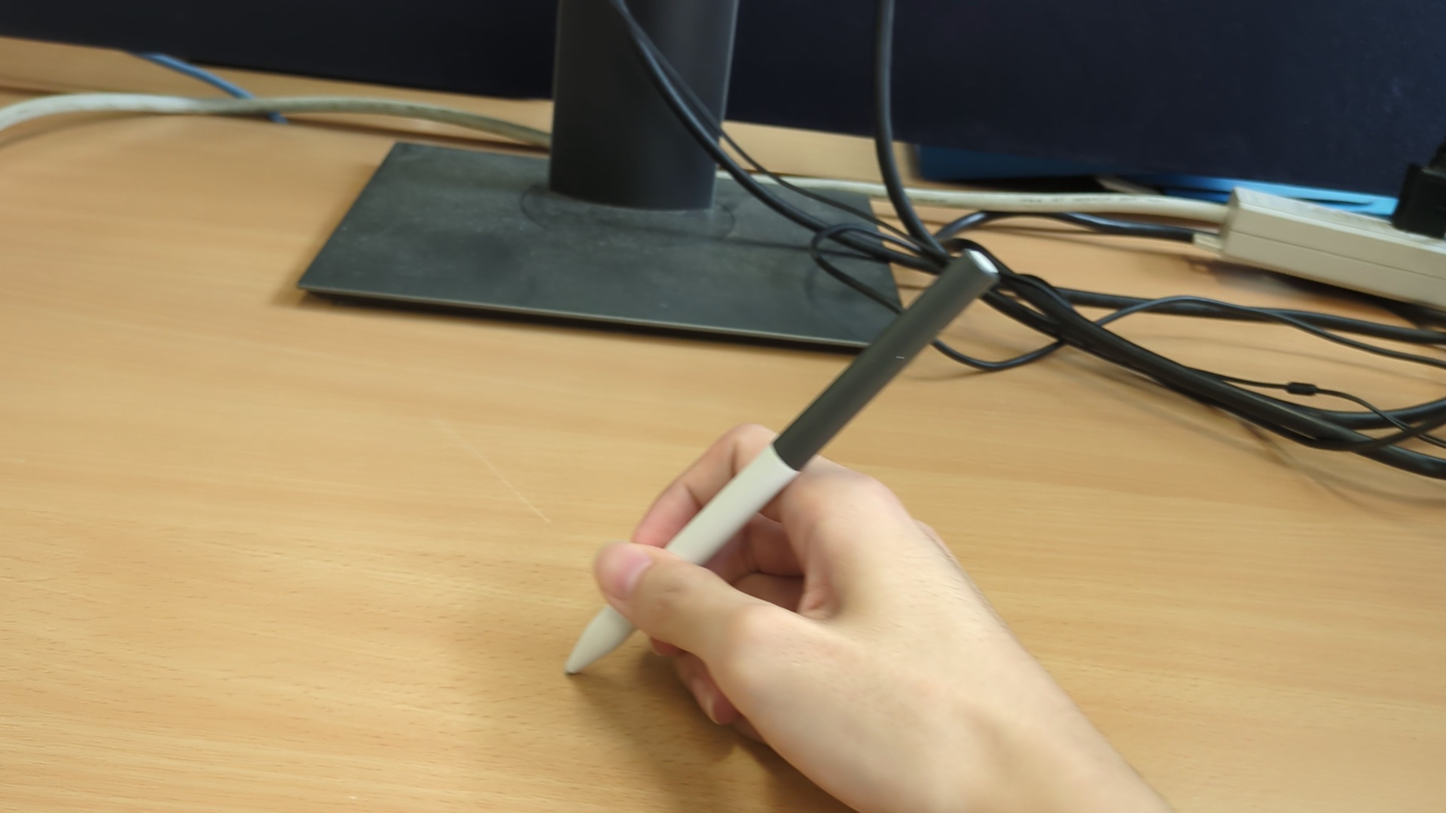pen: (559, 242, 1008, 680)
tip: (561, 654, 584, 674)
